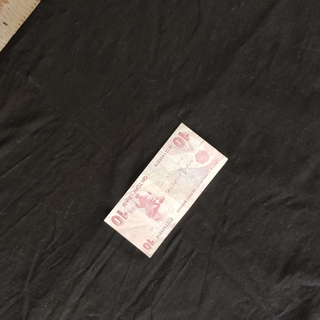10TLBack: (101, 121, 229, 259)
